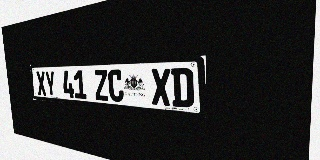1: (73, 70, 87, 99)
4: (62, 70, 75, 98)
C: (108, 69, 124, 102)
D: (171, 68, 194, 108)
X: (151, 68, 171, 106), (36, 71, 47, 96)
Y: (45, 71, 56, 97)
Z: (94, 70, 109, 101)
